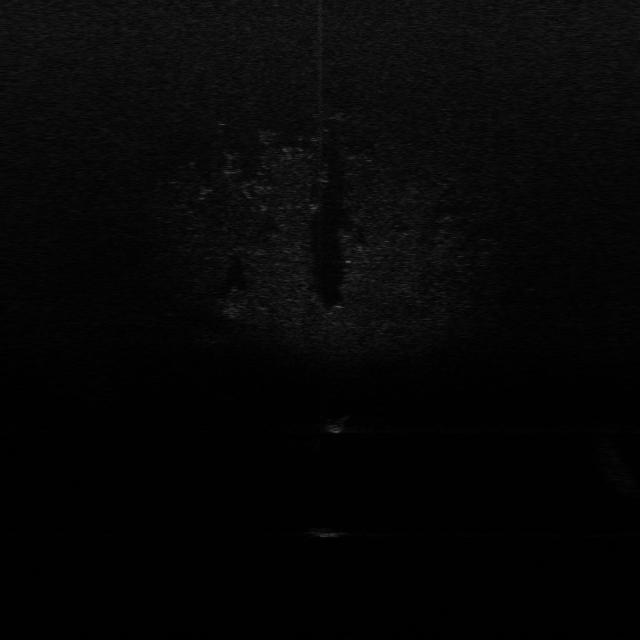cube: (304, 524, 348, 540)
square cage: (322, 413, 352, 434)
